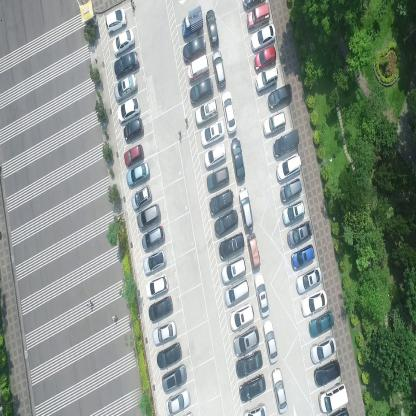car: (319, 381, 348, 414), (313, 358, 342, 388), (235, 349, 264, 379), (239, 373, 267, 404), (300, 288, 328, 318), (276, 151, 302, 183), (233, 325, 259, 357), (249, 22, 276, 52), (113, 50, 140, 80), (224, 277, 250, 308), (162, 363, 188, 394), (272, 128, 299, 157), (308, 308, 334, 338), (296, 265, 322, 295), (213, 208, 239, 238), (181, 5, 203, 40), (272, 366, 288, 414), (267, 82, 293, 111), (254, 271, 270, 318), (221, 256, 246, 286), (229, 301, 254, 331), (114, 71, 138, 102), (142, 248, 167, 277), (253, 42, 277, 72), (194, 96, 218, 126), (230, 136, 245, 184), (262, 319, 278, 364), (309, 336, 336, 362), (156, 342, 182, 369), (287, 220, 312, 248), (219, 232, 244, 260), (166, 387, 191, 415), (190, 76, 214, 105), (200, 119, 224, 148), (186, 54, 209, 84), (148, 295, 173, 322), (222, 90, 237, 135), (238, 186, 253, 231), (182, 35, 206, 63), (104, 7, 128, 35), (111, 27, 135, 55), (210, 187, 233, 216), (152, 320, 177, 346), (291, 244, 315, 271), (246, 2, 270, 29), (126, 161, 150, 188), (117, 96, 140, 124), (141, 224, 166, 249), (282, 199, 306, 225), (262, 112, 286, 138), (136, 202, 160, 228), (255, 65, 278, 92), (204, 142, 227, 169), (207, 165, 230, 192), (211, 49, 226, 90), (131, 184, 152, 212), (205, 7, 219, 48), (146, 274, 169, 298), (280, 178, 302, 203), (246, 233, 260, 269), (123, 116, 143, 141), (124, 144, 145, 166), (243, 403, 267, 415)
